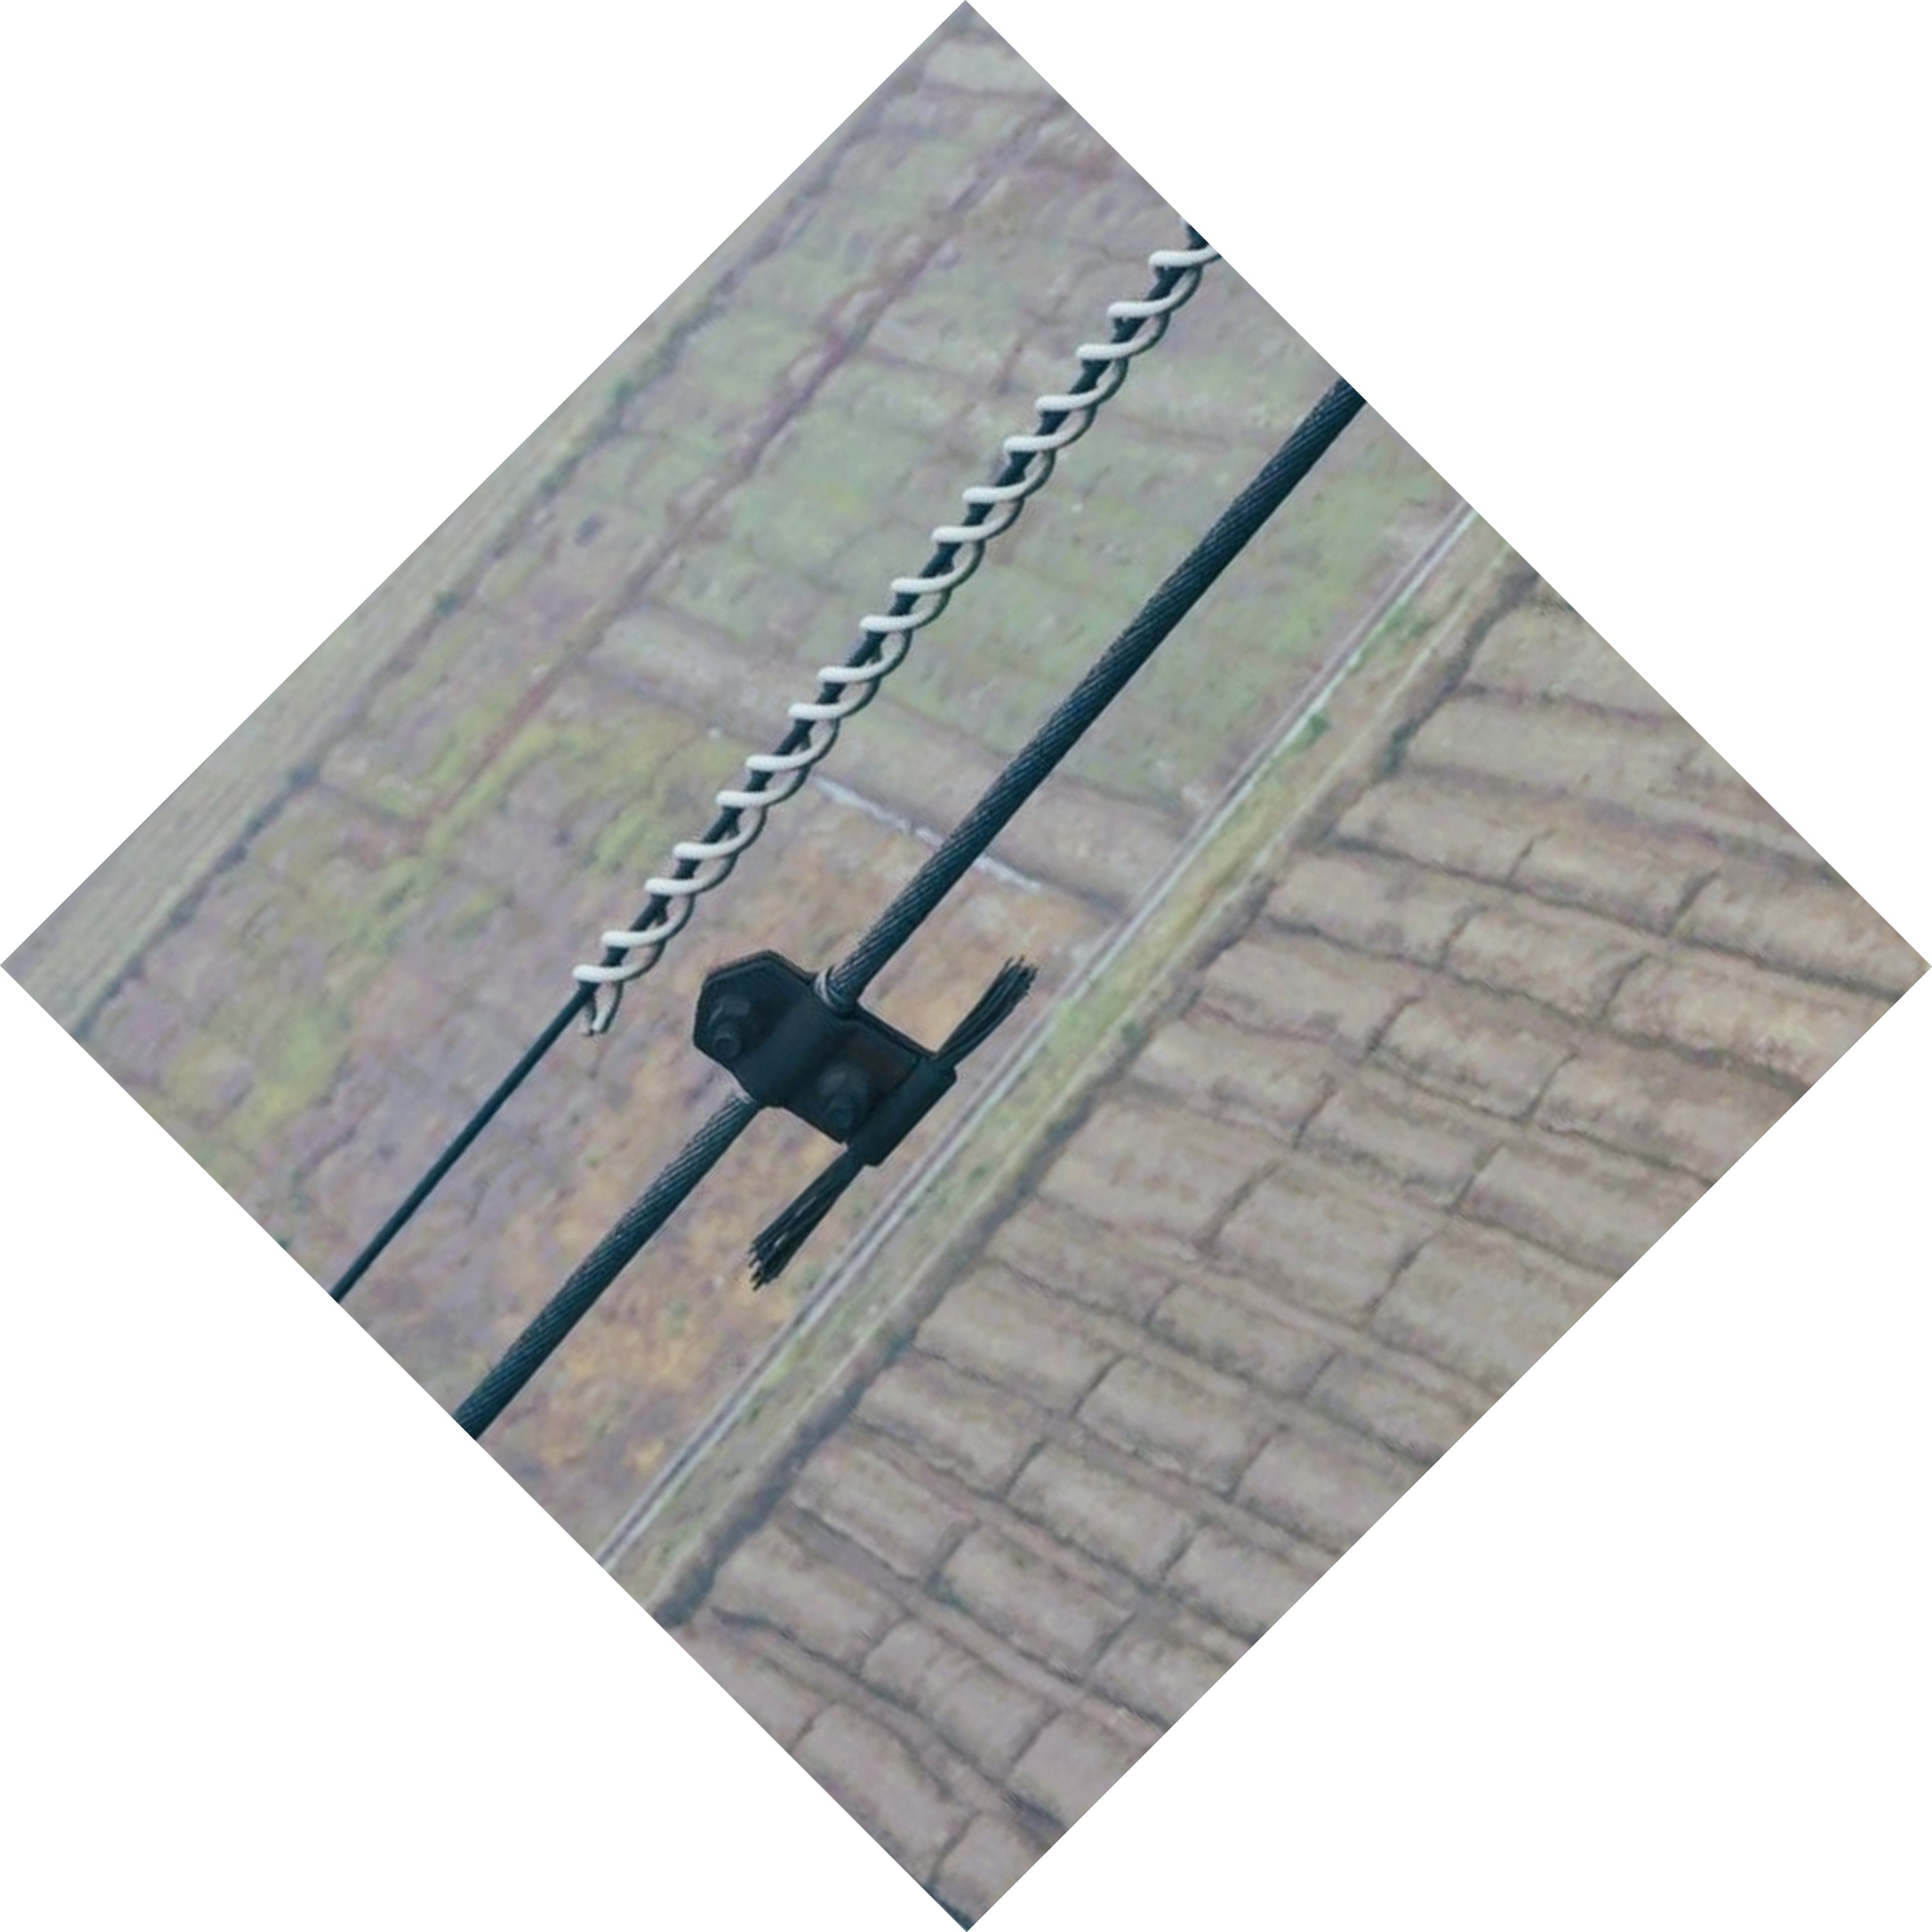Damage of shockproof hammer: (648, 890, 1085, 1297)
